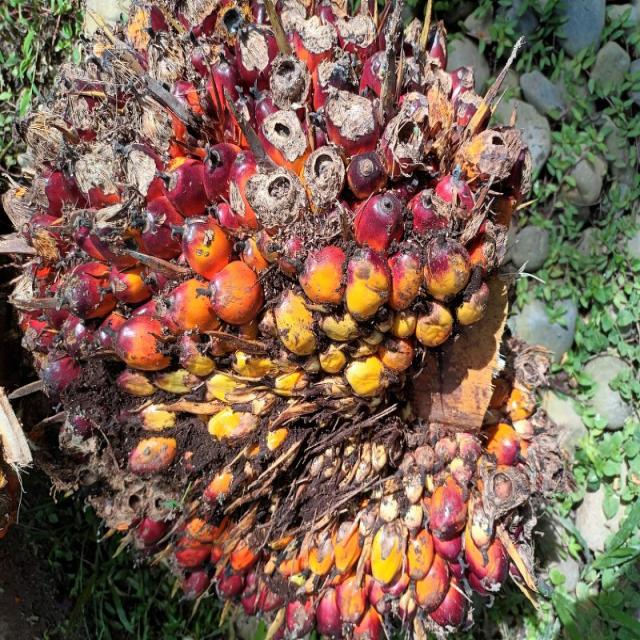fraksi 1: (0, 6, 466, 640)
